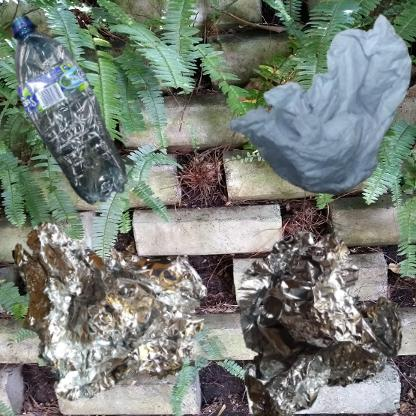aluminio: (213, 213, 416, 416), (10, 213, 213, 406)
botella: (10, 10, 132, 213)
papel: (213, 10, 416, 217)
